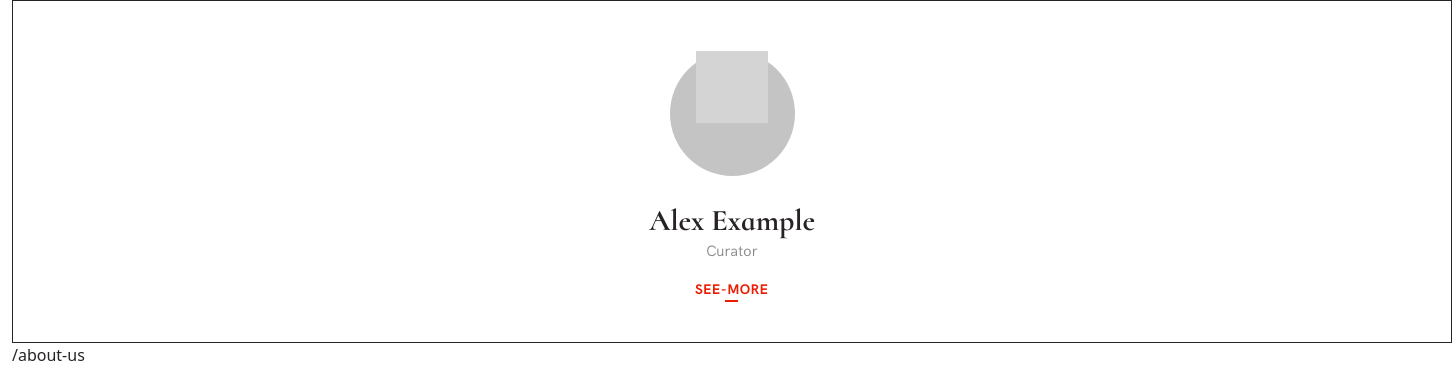
Test: CardTeamMember › opens the team modal and navigates to the selected member
This screenshot has width=1452, height=382.
Expected: the text with test id "location" reads "/about-us", x1=12 y1=344 x2=85 y2=366
Step 1. Click the link "see-more" → point(732, 289), box x1=695 y1=276 x2=769 y2=302
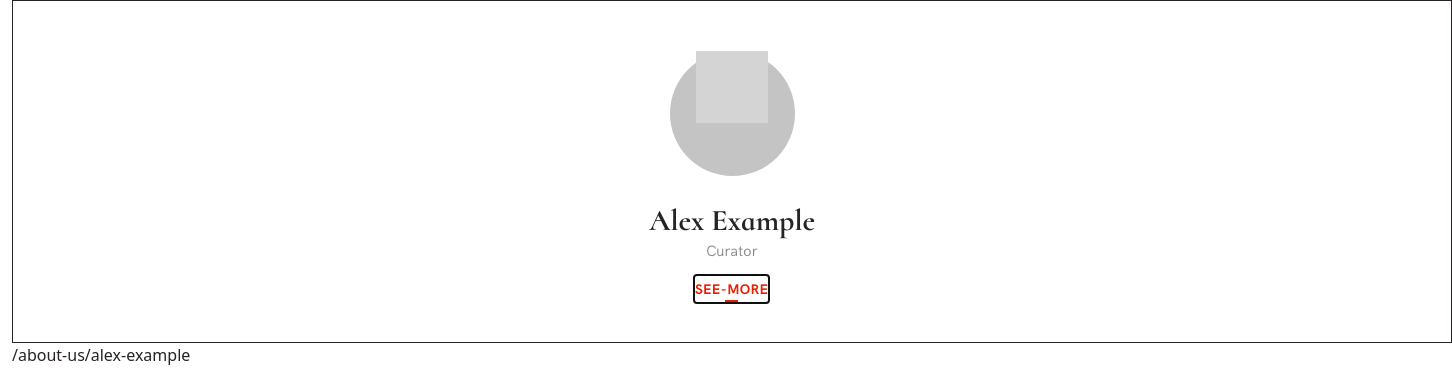
Now the text with test id "location" reads "/about-us/alex-example", box x1=12 y1=344 x2=190 y2=366
